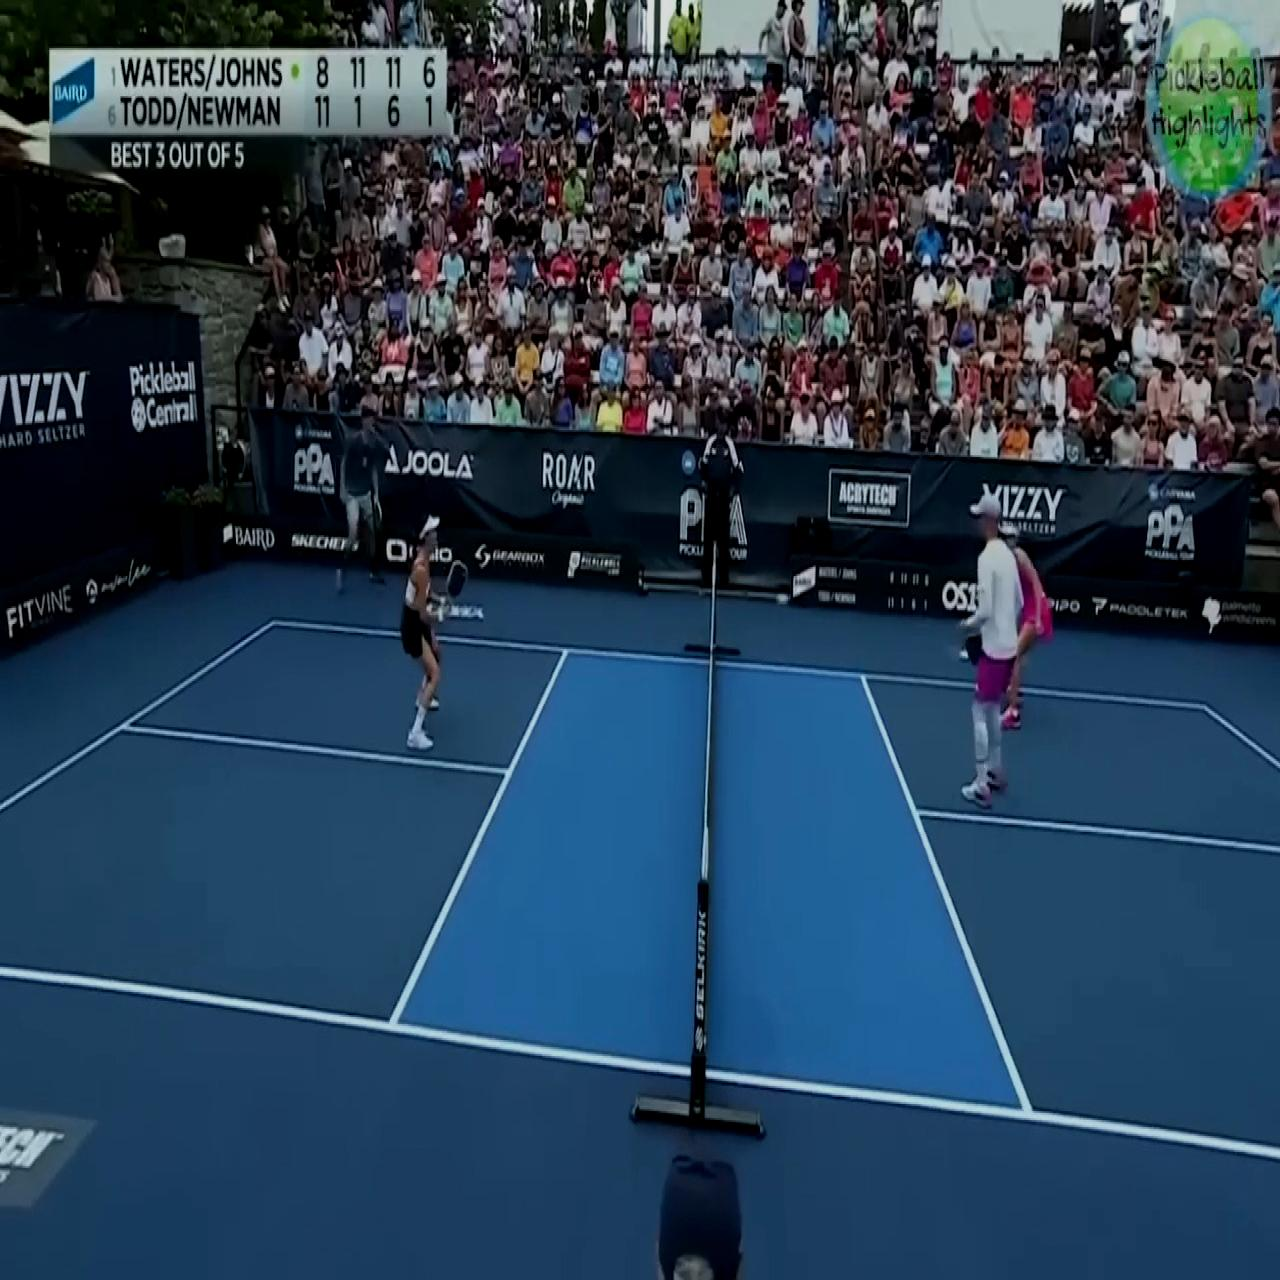Pickleball: (958, 642, 969, 665)
